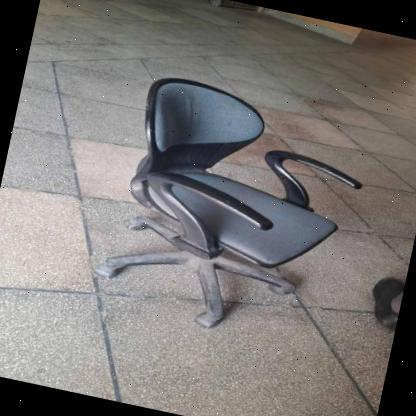chair: (90, 62, 380, 360)
